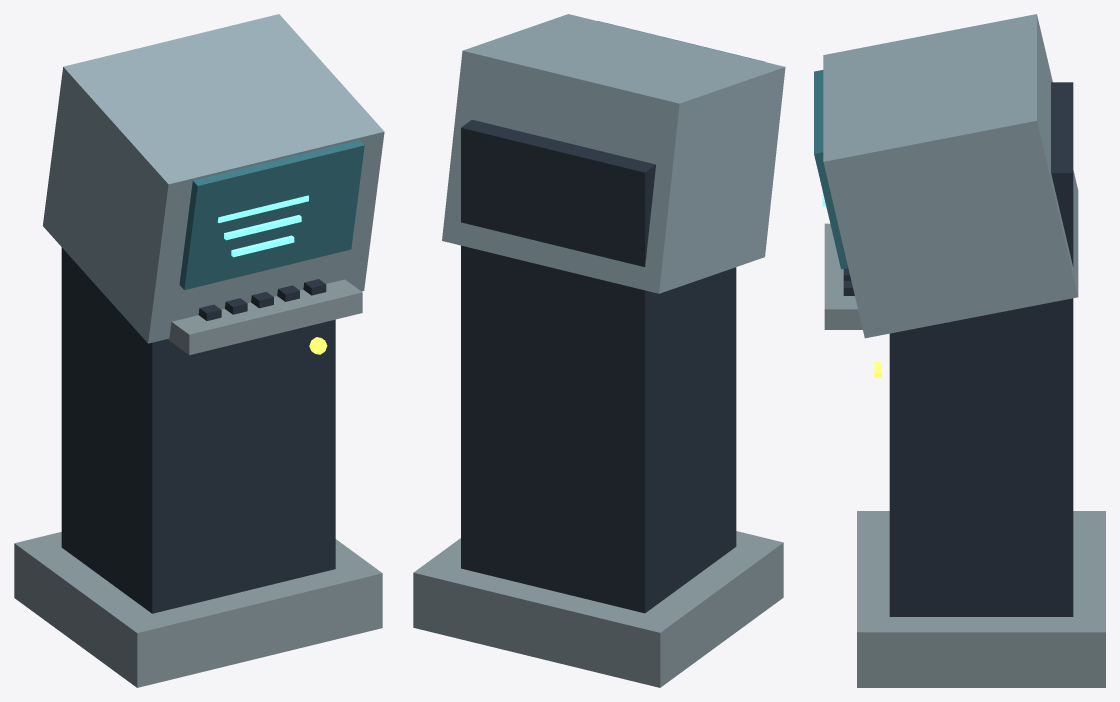
Rendered from Terminal.fbx.
3 renders of one model, left to right at view 1: azimuth 30°, elevation 25°; view 2: azimuth 150°, elevation 25°; view 3: azimuth 270°, elevation 25°, orthographic.
Visible parts, largest first — view 1: Terminal_RenderMesh; view 2: Terminal_RenderMesh; view 3: Terminal_RenderMesh.
Boxes of the visible parts, box(x1,y1,x2,y2) form: Terminal_RenderMesh: box(14, 14, 384, 687); Terminal_RenderMesh: box(413, 14, 785, 687); Terminal_RenderMesh: box(814, 14, 1105, 687).
Size of the model in its own units: 0.75 by 1.61 by 0.7625.
